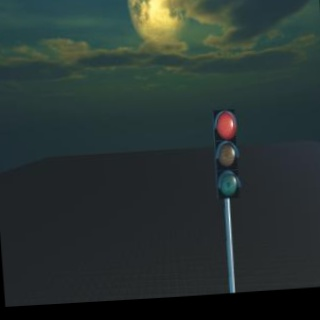sinalRed: (203, 105, 247, 205)
